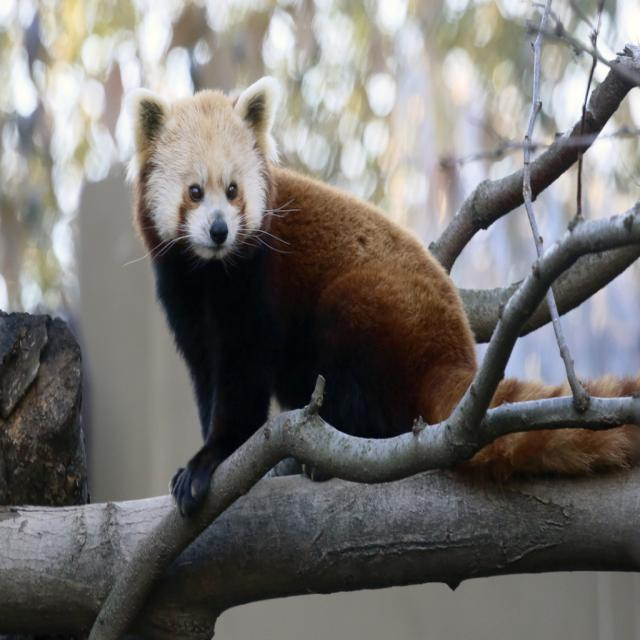panda: (133, 75, 351, 536)
